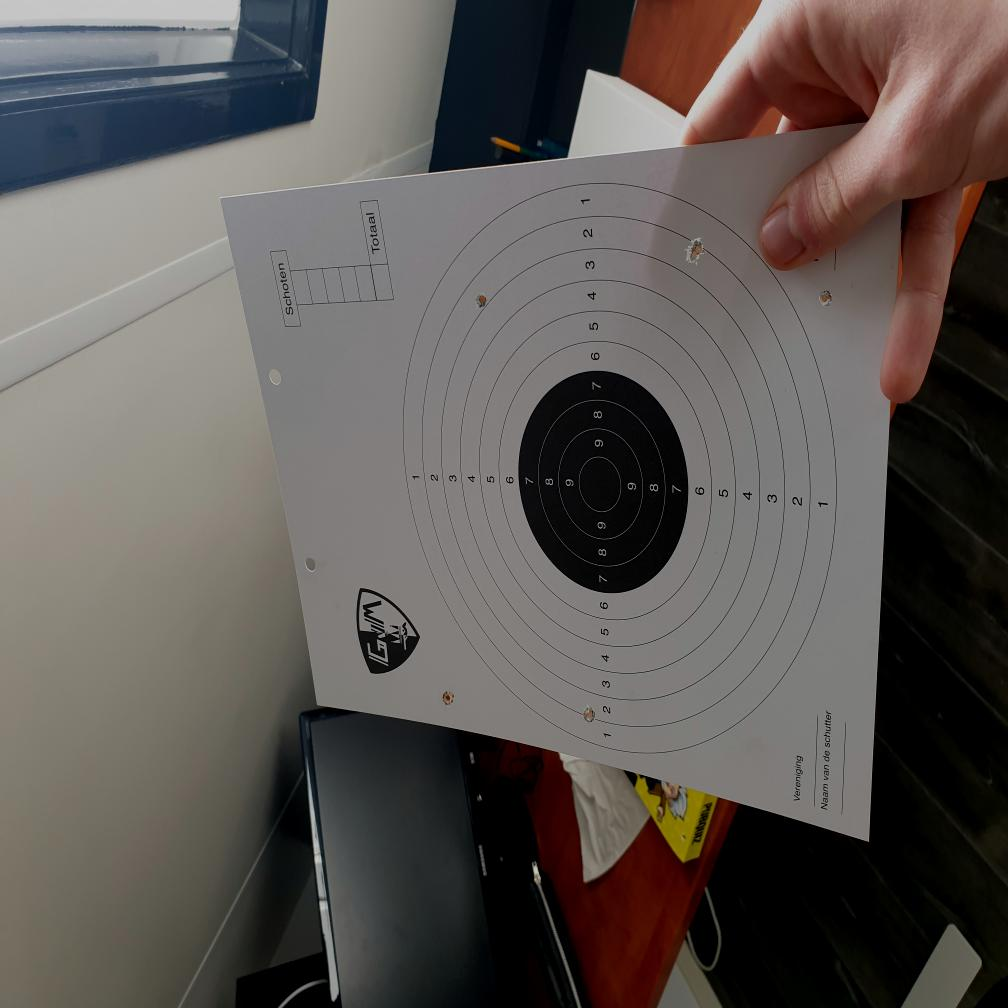0: (440, 687, 455, 708), (818, 290, 832, 308)
2: (692, 238, 707, 254), (583, 705, 595, 724), (684, 248, 699, 263), (475, 293, 487, 308)
Target: (402, 180, 836, 753)
black_contour: (518, 371, 688, 593)
